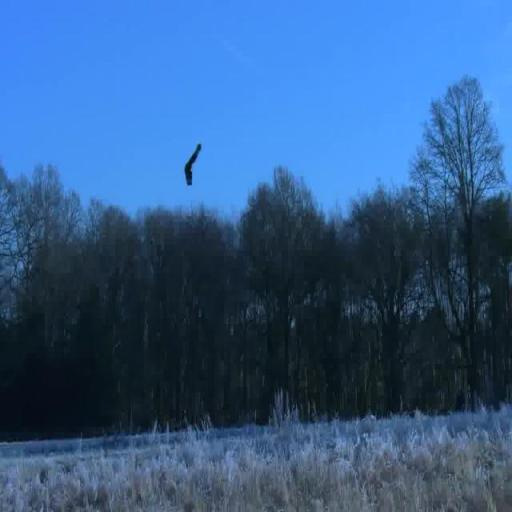uav: (184, 140, 206, 198)
